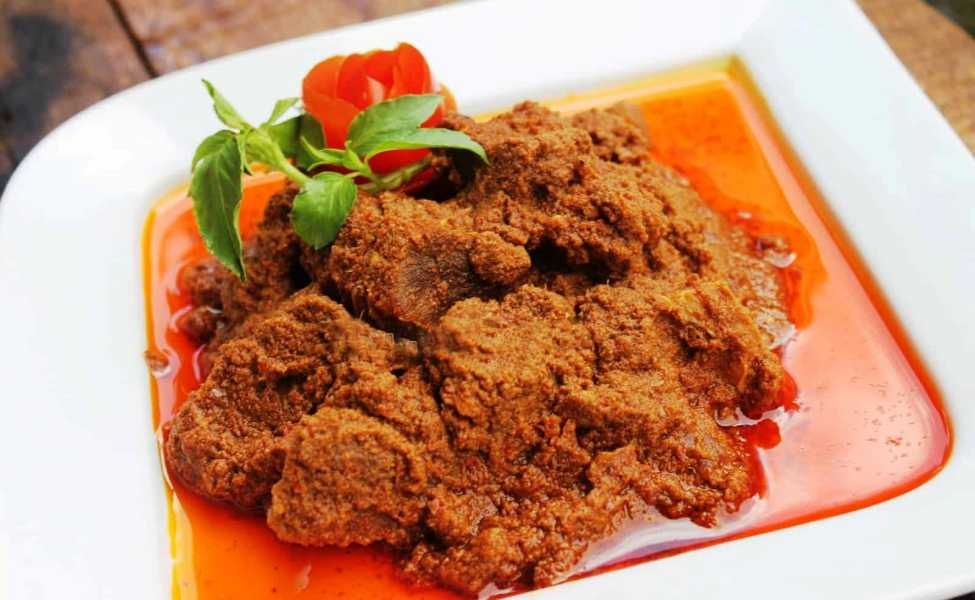rendang: (162, 163, 798, 581)
